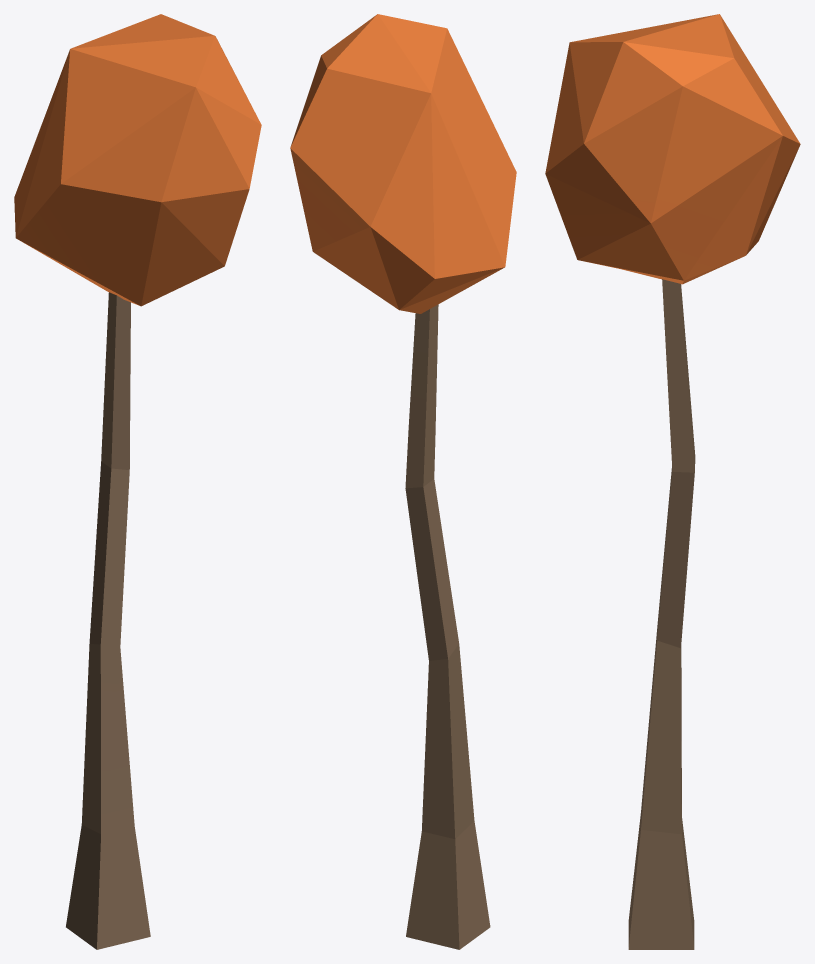
Rendered from Tree_3.gltf.
3 renders of one model, left to right at view 1: azimuth 30°, elevation 25°; view 2: azimuth 150°, elevation 25°; view 3: azimuth 270°, elevation 25°, orthographic. The views are drawn at different scales.
Visible parts, largest first — view 1: Tree_3; view 2: Tree_3; view 3: Tree_3.
Boxes of the visible parts, x1,y1,x2,y2 form: Tree_3: (14,14,261,949); Tree_3: (290,14,516,949); Tree_3: (545,14,800,949).
Bounding box in the file's own units: 0.5388 × 2.16 × 0.5328.
1 material, 1 textured.
